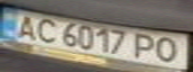0: (75, 22, 96, 51)
1: (90, 25, 112, 53)
6: (57, 20, 81, 48)
7: (109, 27, 130, 56)
A: (9, 12, 42, 39)
C: (30, 16, 60, 44)
O: (151, 35, 184, 64)
P: (130, 31, 160, 60)
